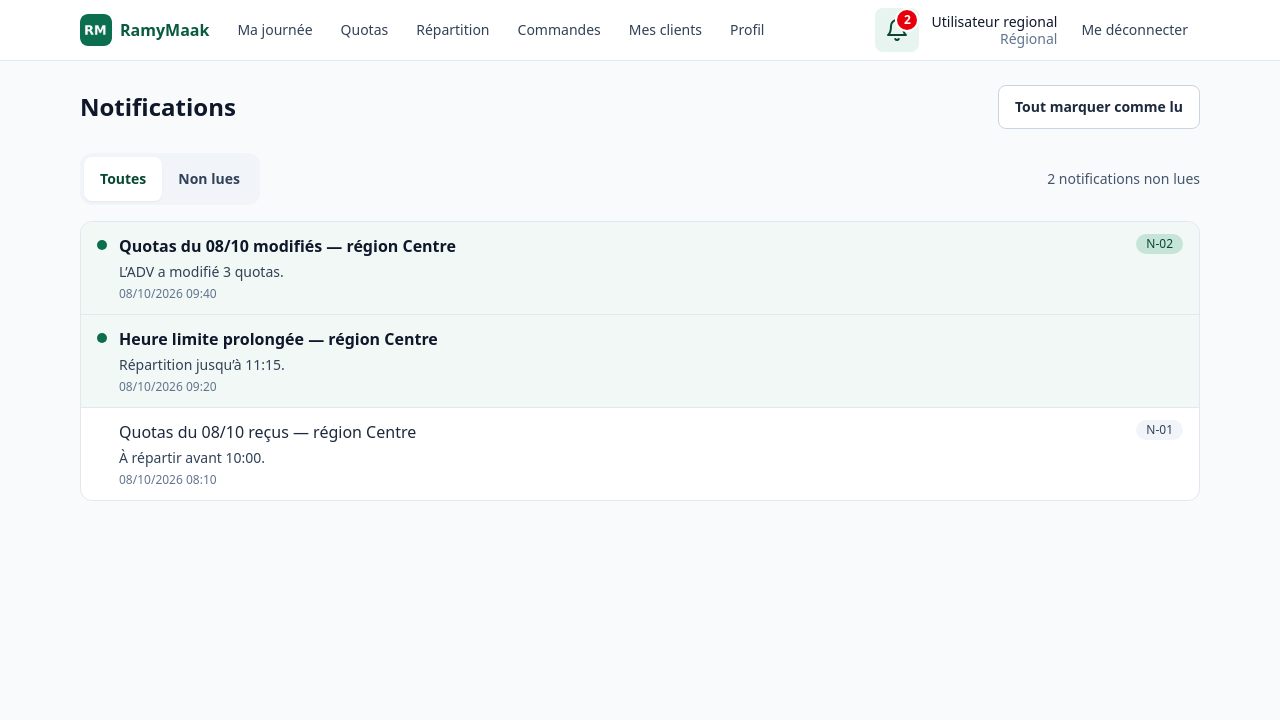
it: notification centre › marks a notification without a screen read in place
Sans écran à ouvrir : un bouton, pas un lien.
What coordinates should you click on to do the following:
click the button "Heure limite prolongée — région Centre"
I would click on:
 (147, 338)
Its box is [81, 315, 1199, 407].
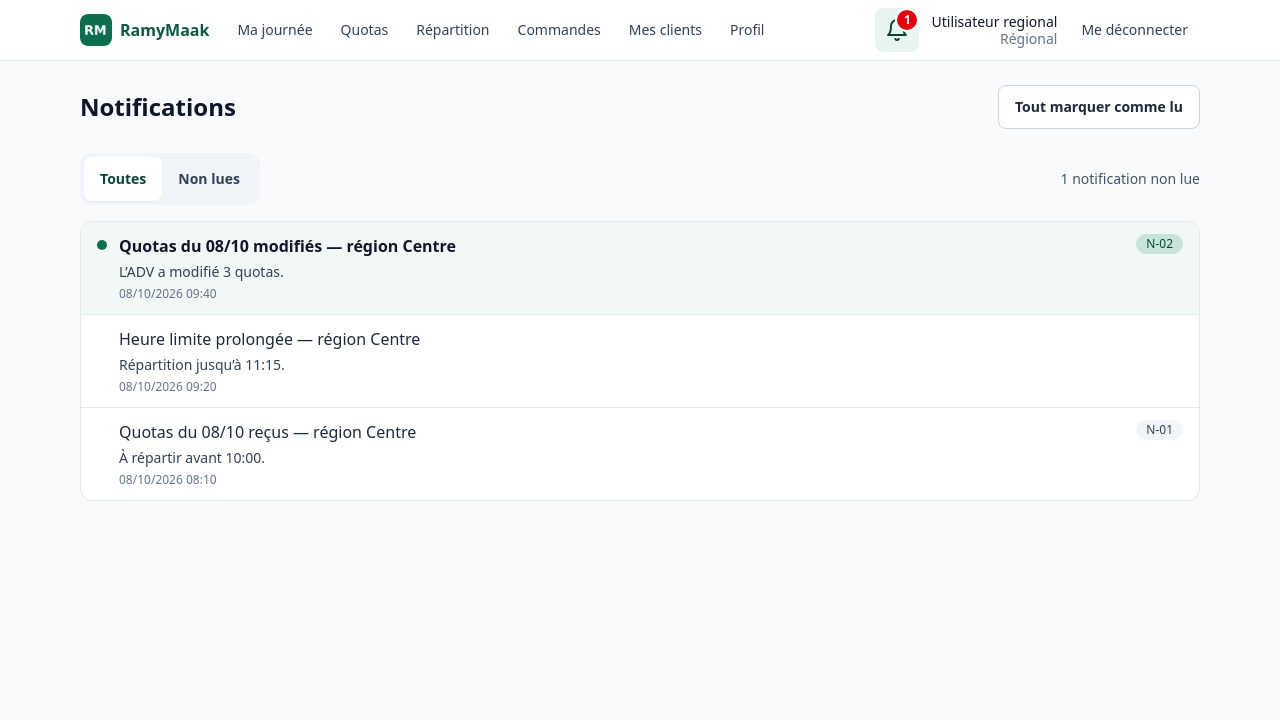
Expected: the text "1 notification non lue" is shown, [1060, 169, 1200, 189]
